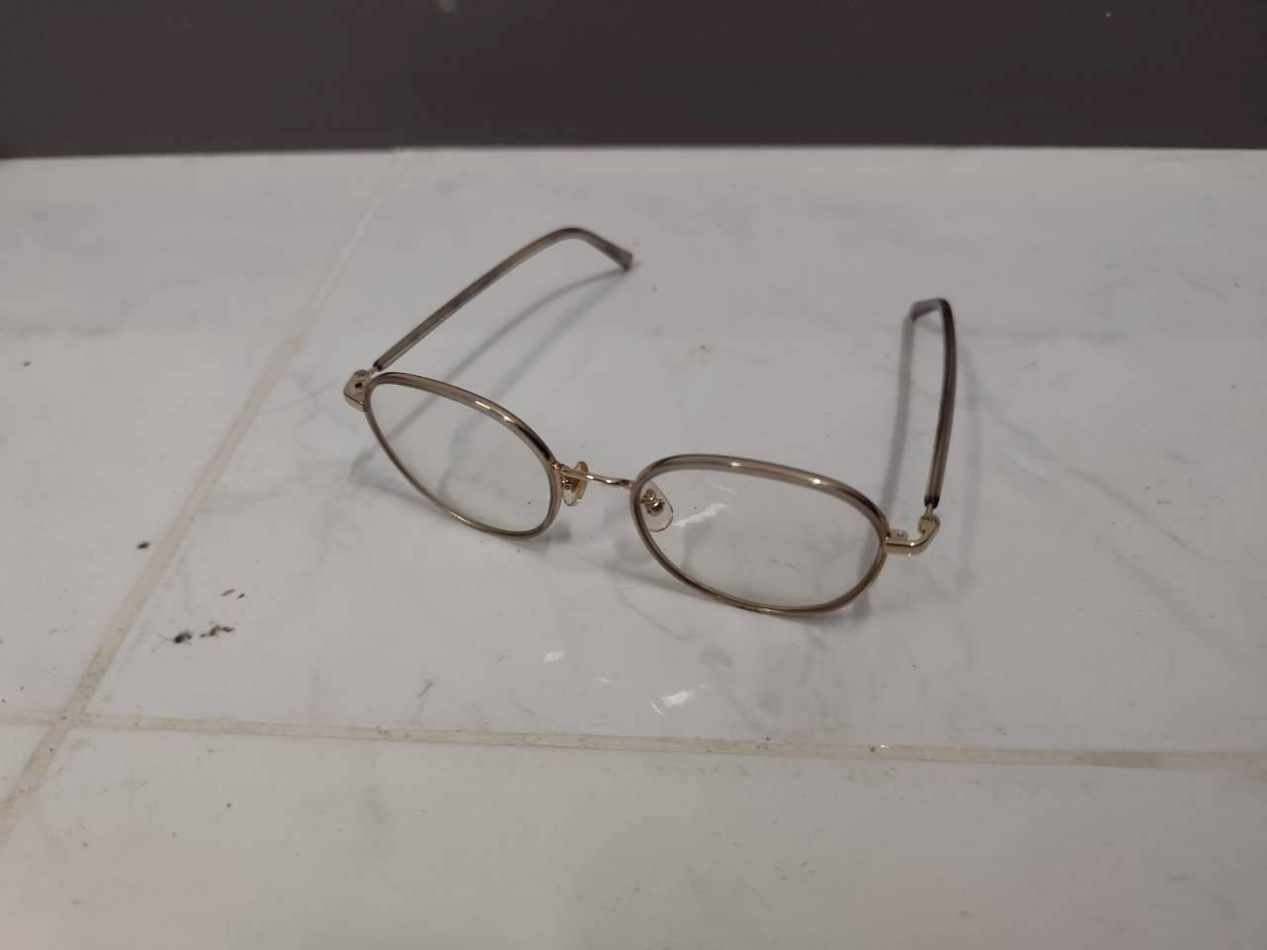glasses: (337, 219, 970, 627)
